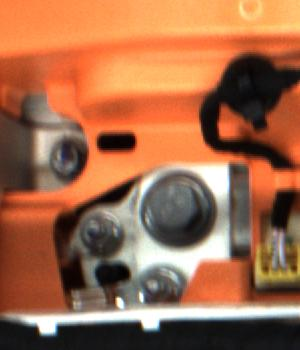nut_b: (135, 170, 220, 255)
